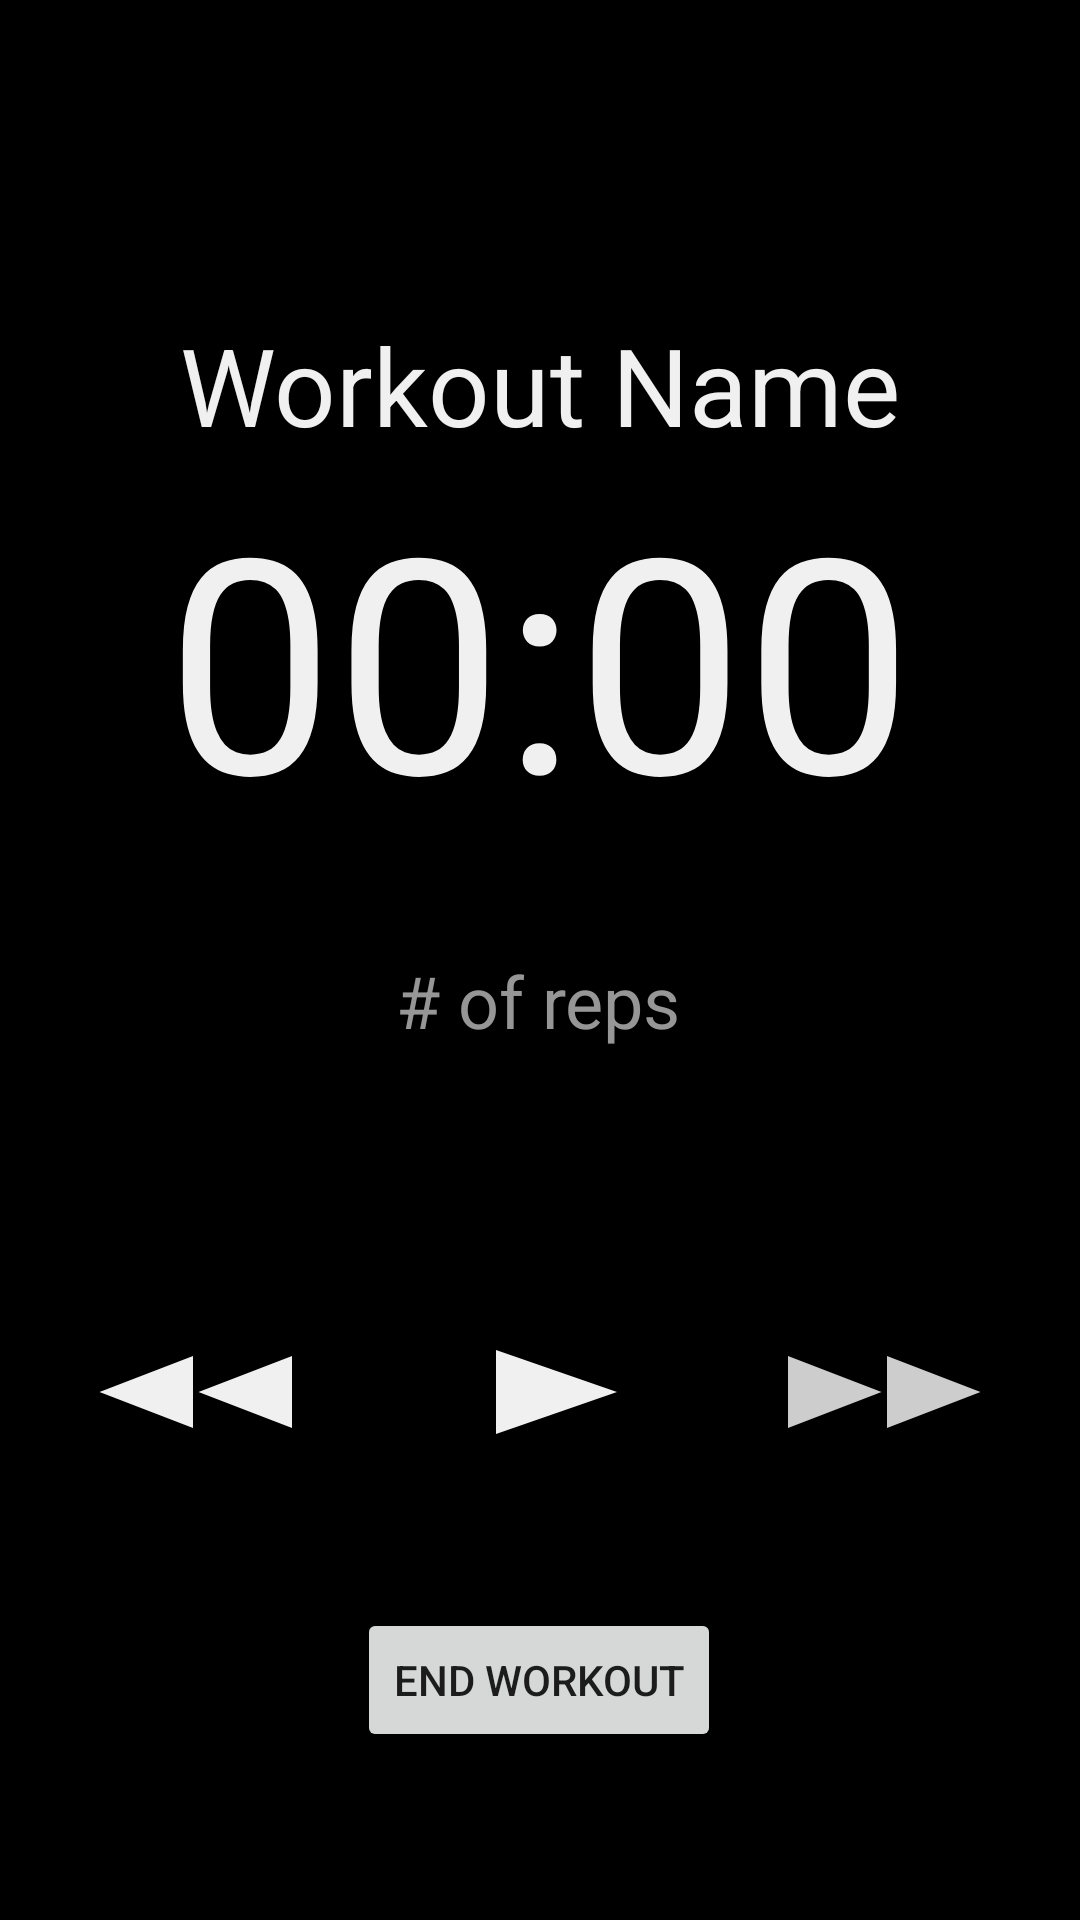

Screen size 1080w x 1920h. Icon name, then its center in pixels as (x=x, y=y):
fast forward: (x=884, y=1392)
rewind: (x=196, y=1392)
